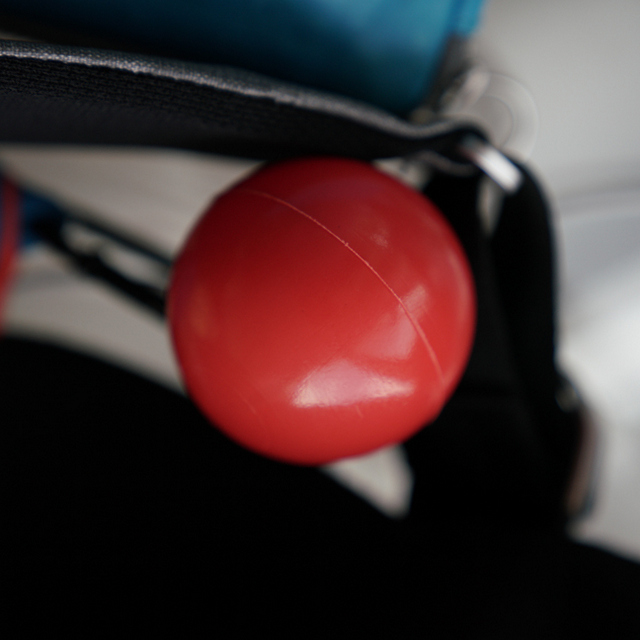Ball: (168, 157, 474, 463)
